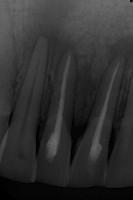Furcation Involvement: (23, 0, 85, 69), (109, 35, 133, 69)
